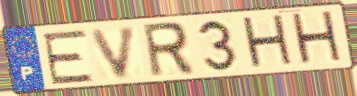3: (196, 17, 240, 75)
E: (40, 27, 96, 86)
H: (288, 9, 347, 69), (239, 13, 298, 73)
R: (139, 20, 198, 80)
V: (88, 24, 140, 81)
